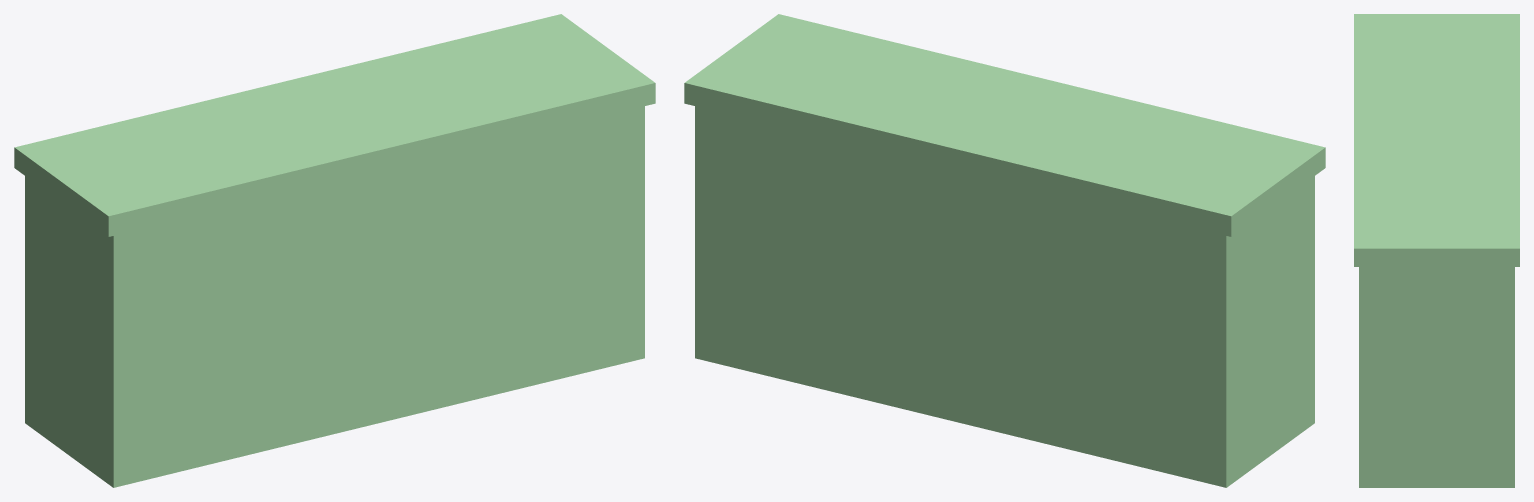
File: Kitchen_Island.fbx
The picture shows the model from 3 angles, left to right: view 1: azimuth 30°, elevation 25°; view 2: azimuth 150°, elevation 25°; view 3: azimuth 270°, elevation 25°; orthographic projection. The views are drawn at different scales.
Visible parts, largest first — view 1: Island; view 2: Island; view 3: Island.
Boxes of the visible parts, <box> form: Island: <box>14,14,655,487</box>; Island: <box>684,14,1325,487</box>; Island: <box>1354,14,1519,487</box>.
Bounding box in the file's own units: 2820 × 1358 × 841.
